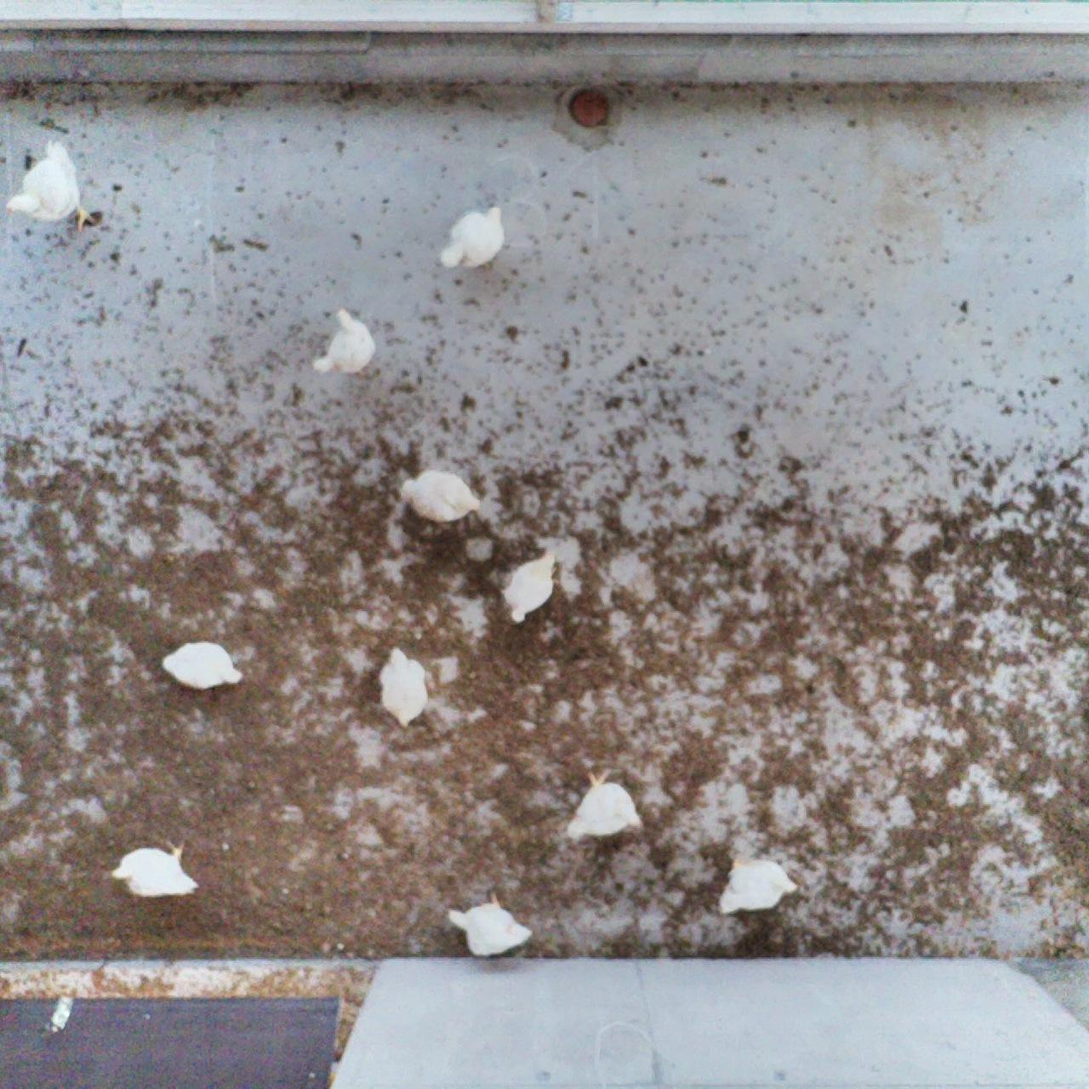chicken: (3, 136, 99, 239), (442, 887, 535, 962), (562, 764, 645, 845), (106, 834, 203, 903), (711, 850, 802, 919), (435, 197, 510, 279), (307, 301, 380, 384), (397, 464, 482, 530), (376, 643, 432, 731), (500, 547, 561, 626), (158, 639, 243, 694)
